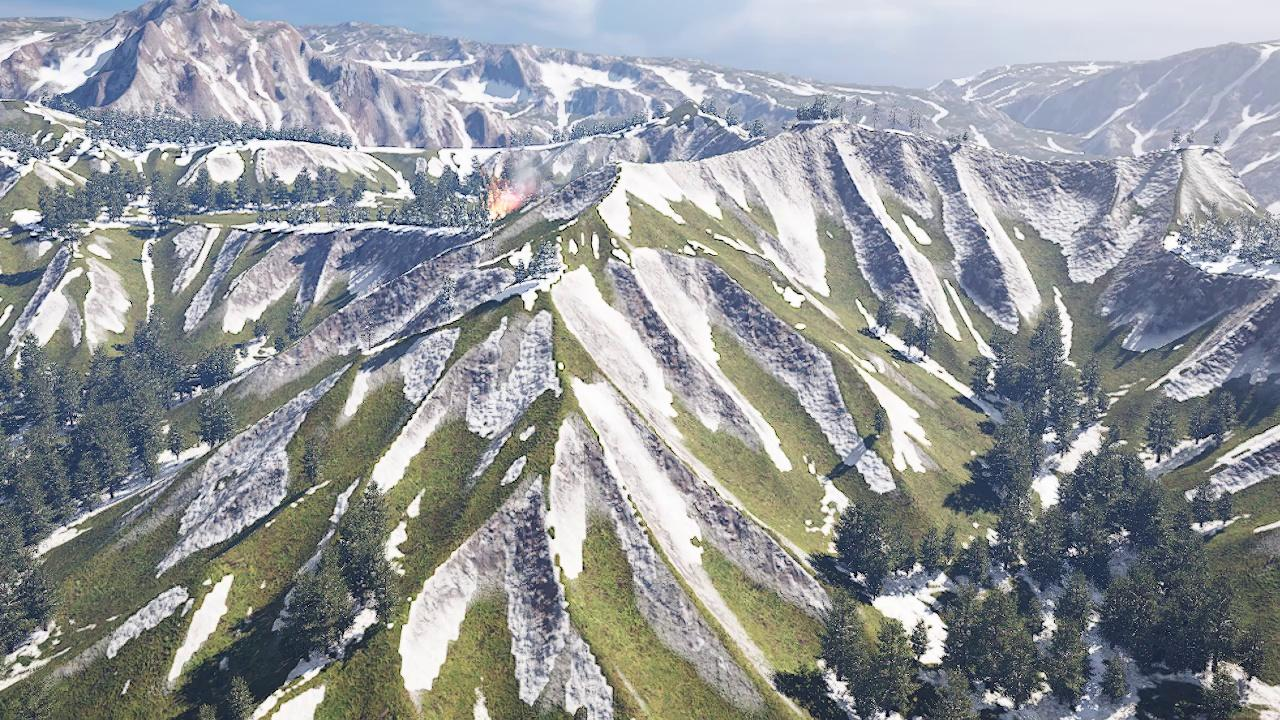fire: (489, 186, 520, 217)
smoke: (508, 149, 580, 193)
